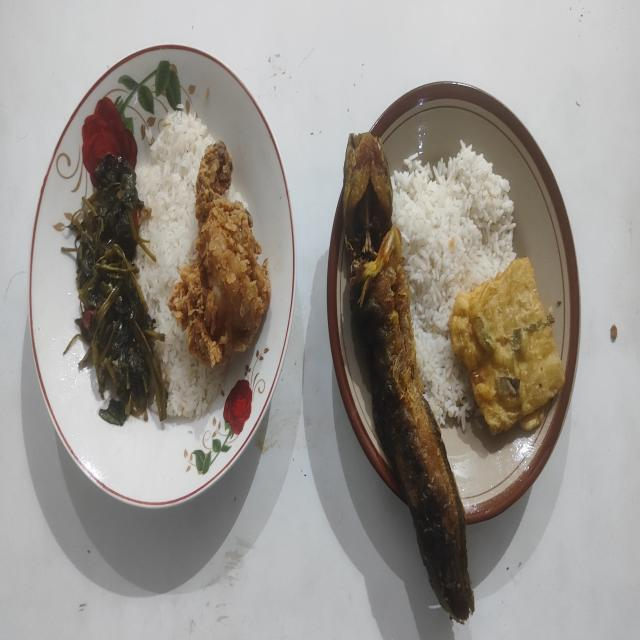nasi_putih: (391, 140, 516, 430), (137, 111, 220, 418)
tumis_kangkung: (62, 153, 166, 424)
